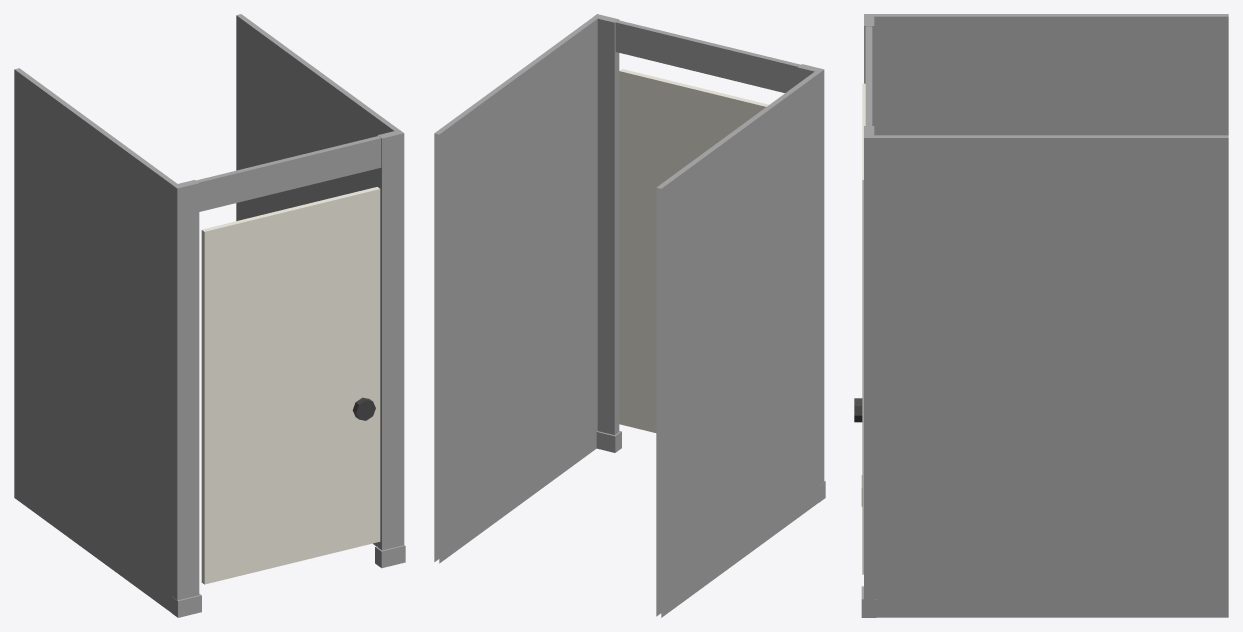
File: toilet_stall_0415.fbx
3 views of the same model, side by side, from view 1: azimuth 30°, elevation 25°; view 2: azimuth 150°, elevation 25°; view 3: azimuth 270°, elevation 25° (orthographic). The views are drawn at different scales.
Visible parts, largest first — view 1: door, wall; view 2: door, wall; view 3: door, wall.
Part boxes in pixels (x1=…): door: x1=14, y1=14, x2=405, y2=617; wall: x1=201, y1=187, x2=380, y2=584; door: x1=434, y1=14, x2=825, y2=617; wall: x1=619, y1=69, x2=768, y2=432; door: x1=861, y1=14, x2=1228, y2=617; wall: x1=854, y1=83, x2=865, y2=574.
Bounding box in the file's own units: 180 × 324 × 229.
Materials: 1 (1 with a texture image).
